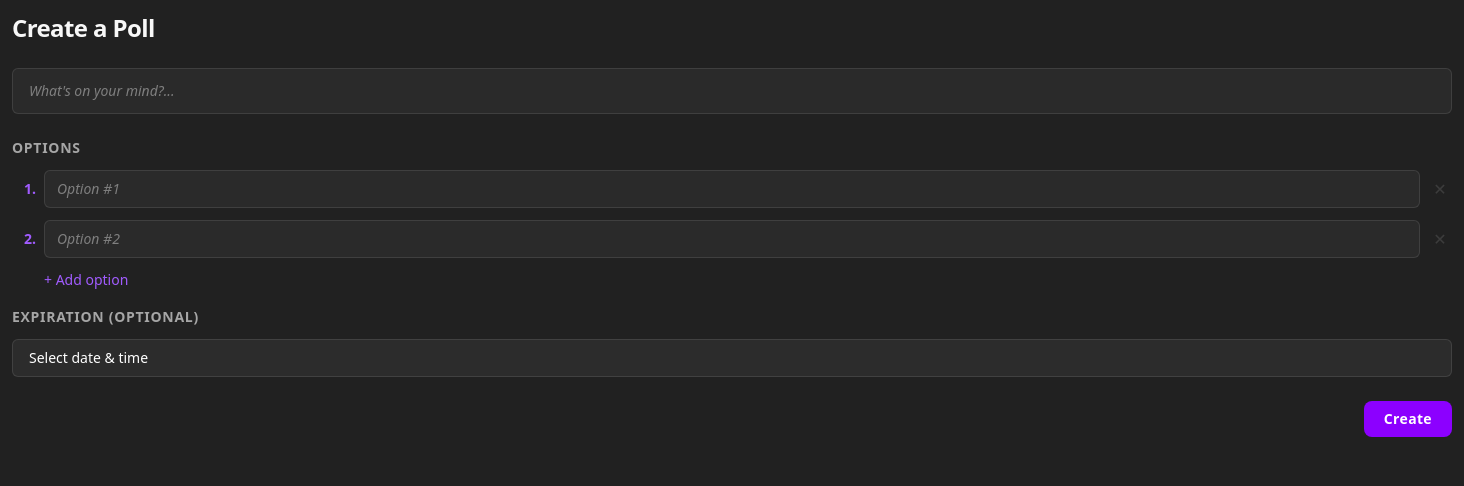
CreatePollPage › displays generic error message on network failure
Type "Q" into the field named "poll question".
click(732, 91); type("Q")  # box [12,68,1452,114]
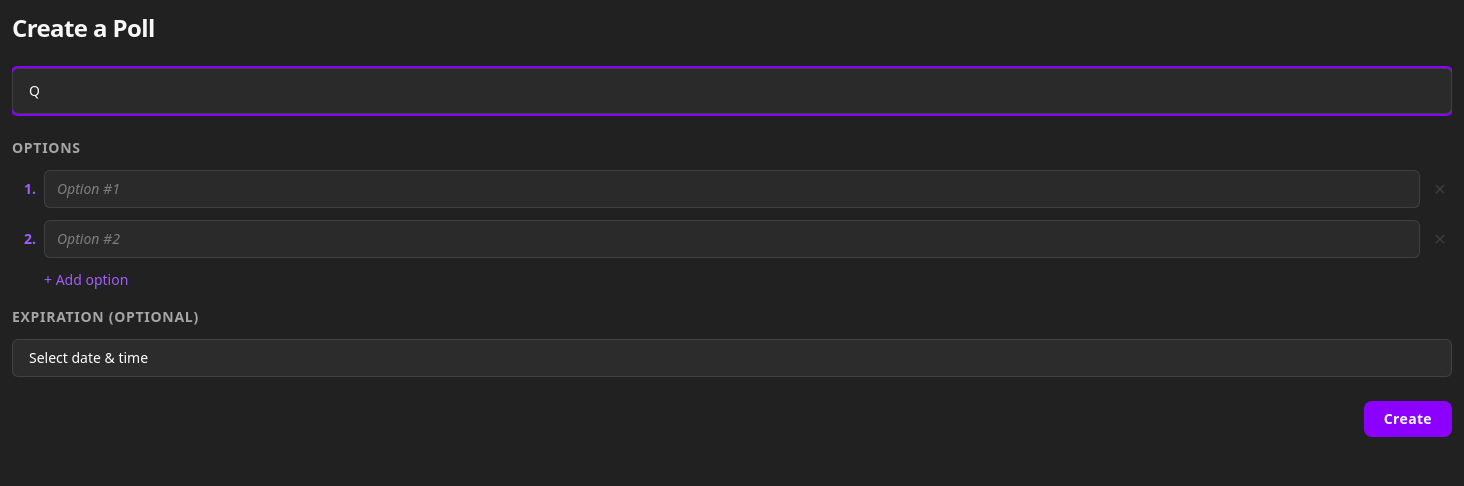
Type "A" into the field named "option 1".
click(732, 189); type("A")  # box [44,170,1420,208]
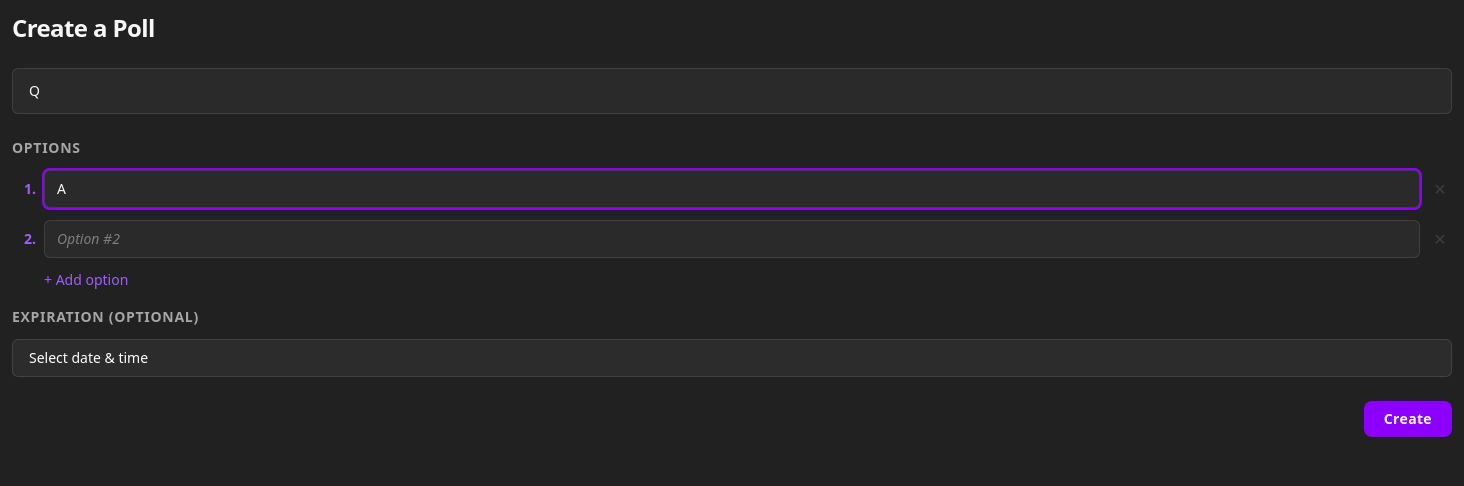
Type "B" into the field named "option 2".
click(732, 239); type("B")  # box [44,220,1420,258]
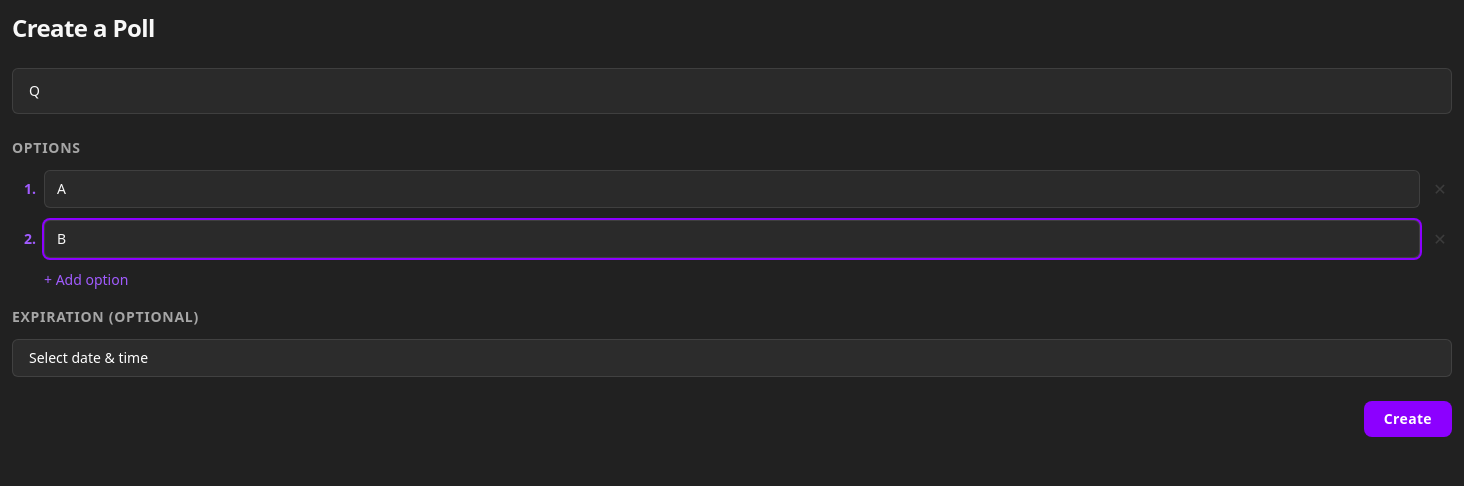
Click the button "Create".
click(1408, 419)  # box [1364,401,1452,437]
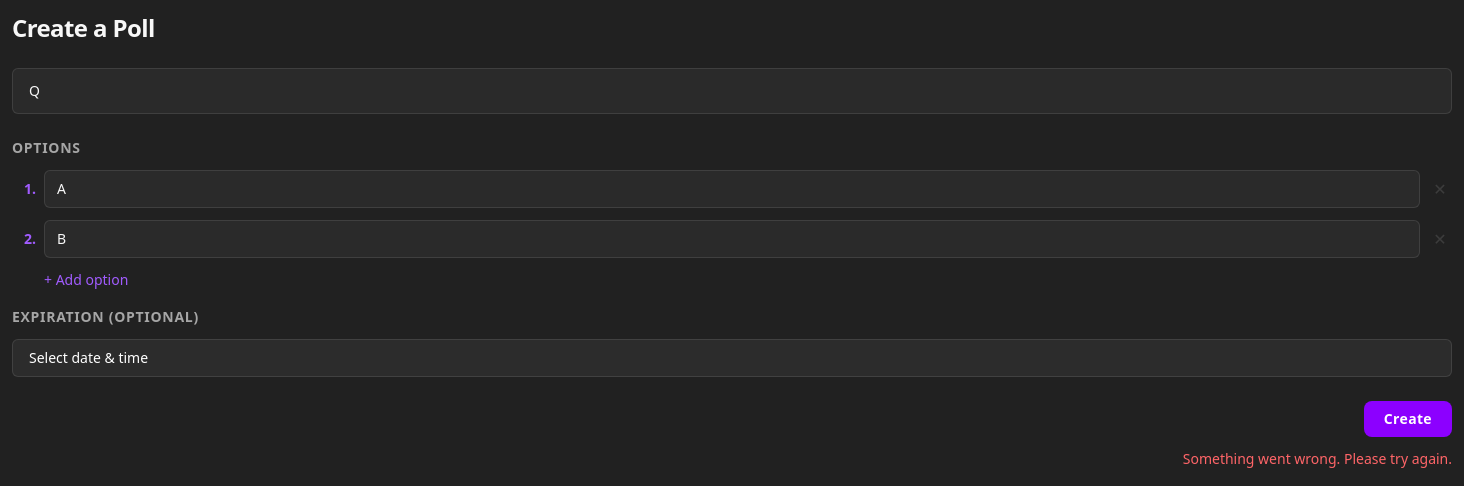
Expected: the text "Something went wrong. Please try again." is shown, [1183,449,1452,469]
